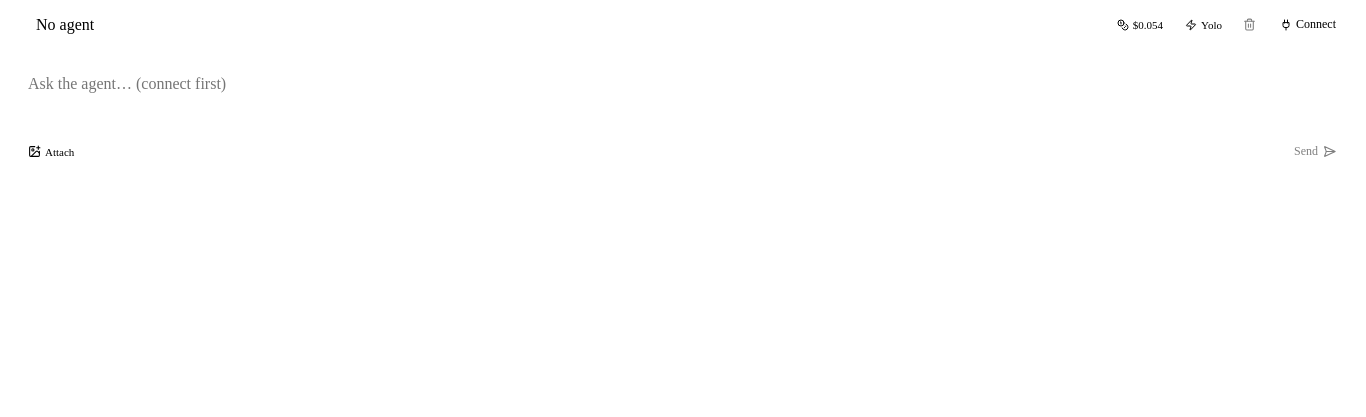
Test: ChatPane › displays cost tracing badge and toggles detail breakdown
This screenshot has width=1366, height=417.
Click the button named "💰 $0.054" at (1140, 24), box top-left (1110, 16), bottom-right (1170, 32)
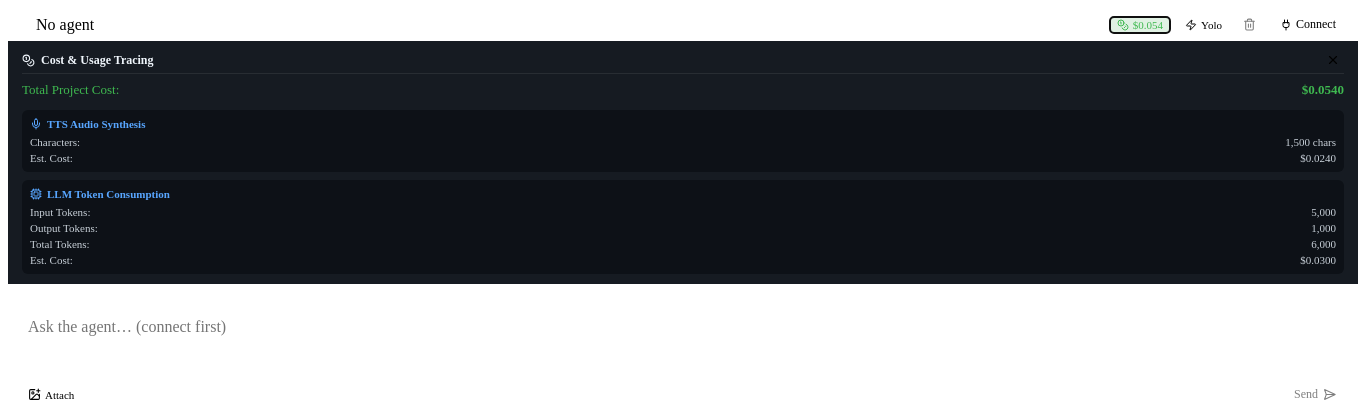
Now the text "Cost & Usage Tracing" is shown, box top-left (22, 52), bottom-right (154, 68)
Now the text "TTS Audio Synthesis" is shown, box top-left (30, 118), bottom-right (145, 130)
Now the text "LLM Token Consumption" is shown, box top-left (30, 188), bottom-right (170, 200)
